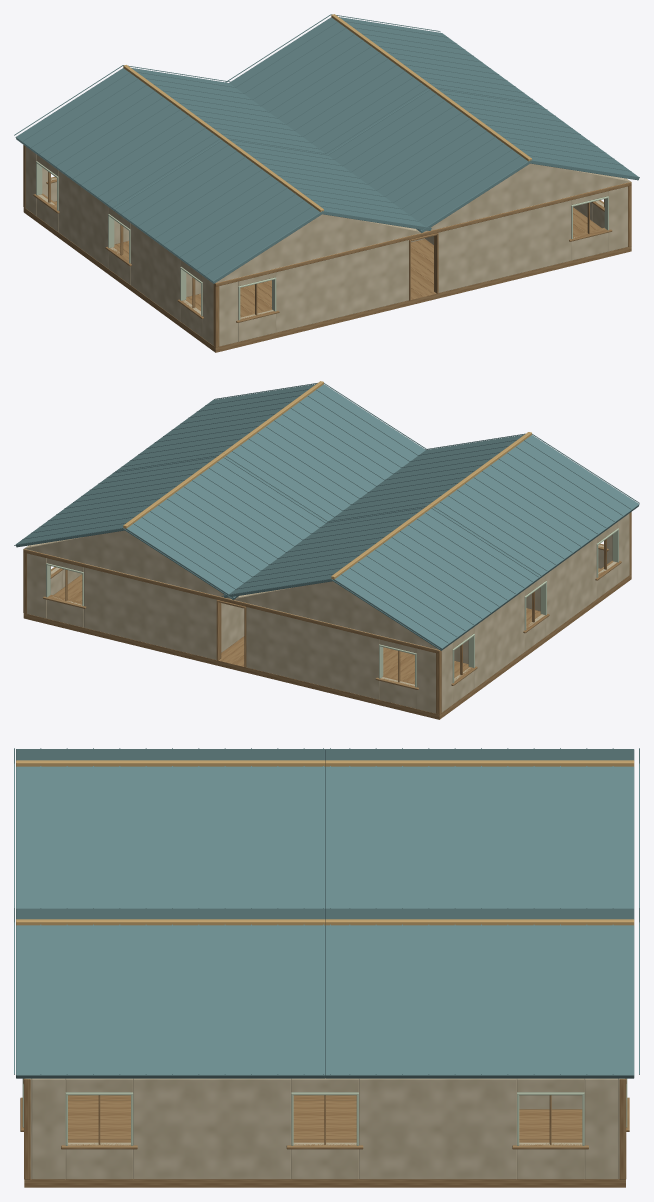
Rendered from main_house.glb.
3 renders of one model, top to bottom at view 1: azimuth 30°, elevation 25°; view 2: azimuth 150°, elevation 25°; view 3: azimuth 270°, elevation 25°, orthographic. The views are drawn at different scales.
Parts seen in each view (by area): view 1: Roof_Main_Section_0_0_-1_001-col, Roof_Main_Section_0_1_-1_001-col, Roof_Main_Section_1_0_-1_001-col, Roof_Main_Section_1_1_-1_001-col, Main_SouthExterior_pier_003-col, Main_SouthExterior_pier_002-col, Main_Floor_001-col, Roof_Main_Section_1_0_1_001-col, Roof_Main_Section_0_0_1_001-col, Roof_Main_Section_1_1_1_001-col, Roof_Main_Section_0_1_1_001-col, Roof_Main_Gable_0_-7.9-col (+15 smaller); view 2: Roof_Main_Section_0_1_-1_001-col, Roof_Main_Section_0_0_-1_001-col, Roof_Main_Section_1_1_-1_001-col, Roof_Main_Section_1_0_-1_001-col, Main_NorthExterior_pier_002-col, Main_NorthExterior_pier_003-col, Roof_Main_Section_1_1_1_001-col, Roof_Main_Section_0_1_1_001-col, Roof_Main_Section_1_0_1_001-col, Roof_Main_Section_0_0_1_001-col, Main_Floor_001-col, Roof_Main_Gable_0_7.9-col (+18 smaller); view 3: Roof_Main_Section_1_1_1_001-col, Roof_Main_Section_1_0_1_001-col, Roof_Main_Section_0_1_1_001-col, Roof_Main_Section_0_0_1_001-col, Main_SideExterior_pier_006-col, Main_SideExterior_pier_007-col, Main_Floor_001-col, Roof_Main_Section_0_1_-1_001-col, Roof_Main_Section_1_1_-1_001-col, Roof_Main_Section_0_0_-1_001-col, Roof_Main_Section_1_0_-1_001-col, Main_SideExterior_pier_005-col (+14 smaller).
Part boxes in pixels (bbox=[...]): Roof_Main_Section_0_0_-1_001-col: bbox=[114, 140, 322, 283]; Roof_Main_Section_0_1_-1_001-col: bbox=[15, 68, 221, 211]; Roof_Main_Section_1_0_-1_001-col: bbox=[328, 90, 530, 232]; Roof_Main_Section_1_1_-1_001-col: bbox=[229, 17, 429, 154]; Main_SouthExterior_pier_003-col: bbox=[438, 196, 571, 292]; Main_SouthExterior_pier_002-col: bbox=[276, 236, 408, 332]; Main_Floor_001-col: bbox=[23, 201, 631, 352]; Roof_Main_Section_1_0_1_001-col: bbox=[438, 89, 639, 180]; Roof_Main_Section_0_0_1_001-col: bbox=[230, 140, 431, 230]; Roof_Main_Section_1_1_1_001-col: bbox=[339, 17, 539, 104]; Roof_Main_Section_0_1_1_001-col: bbox=[131, 67, 326, 154]; Roof_Main_Gable_0_-7.9-col: bbox=[216, 214, 420, 282]; Roof_Main_Section_0_1_-1_001-col: bbox=[333, 507, 540, 650]; Roof_Main_Section_0_0_-1_001-col: bbox=[433, 435, 639, 578]; Roof_Main_Section_1_1_-1_001-col: bbox=[125, 456, 326, 600]; Roof_Main_Section_1_0_-1_001-col: bbox=[225, 384, 425, 521]; Main_NorthExterior_pier_002-col: bbox=[246, 603, 379, 699]; Main_NorthExterior_pier_003-col: bbox=[84, 563, 216, 659]; Roof_Main_Section_1_1_1_001-col: bbox=[16, 456, 216, 547]; Roof_Main_Section_0_1_1_001-col: bbox=[223, 507, 425, 597]; Roof_Main_Section_1_0_1_001-col: bbox=[114, 384, 315, 472]; Roof_Main_Section_0_0_1_001-col: bbox=[328, 435, 523, 521]; Main_Floor_001-col: bbox=[23, 568, 631, 719]; Roof_Main_Gable_0_7.9-col: bbox=[234, 581, 438, 649]; Roof_Main_Section_1_1_1_001-col: bbox=[325, 925, 634, 1078]; Roof_Main_Section_1_0_1_001-col: bbox=[16, 925, 324, 1078]; Roof_Main_Section_0_1_1_001-col: bbox=[325, 766, 634, 908]; Roof_Main_Section_0_0_1_001-col: bbox=[16, 766, 324, 908]; Main_SideExterior_pier_006-col: bbox=[133, 1078, 291, 1179]; Main_SideExterior_pier_007-col: bbox=[359, 1078, 516, 1179]; Main_Floor_001-col: bbox=[24, 1095, 625, 1187]; Roof_Main_Section_0_1_-1_001-col: bbox=[325, 749, 634, 760]; Roof_Main_Section_1_1_-1_001-col: bbox=[325, 908, 634, 919]; Roof_Main_Section_0_0_-1_001-col: bbox=[16, 749, 324, 760]; Roof_Main_Section_1_0_-1_001-col: bbox=[16, 908, 324, 919]; Main_SideExterior_pier_005-col: bbox=[31, 1078, 65, 1179].
Bounding box in the file's own units: 20.52 × 5.51 × 16.64.
6 materials, 3 textured.
